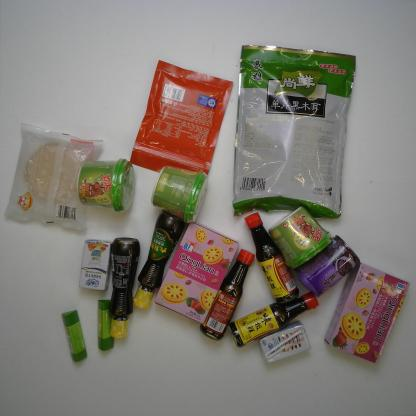Canned Food: (296, 238, 362, 297)
Dessert: (3, 123, 103, 231), (324, 260, 413, 364), (155, 223, 240, 322)
Dried Food: (231, 42, 358, 220)
Dried Fruit: (127, 58, 232, 187)
Instant Drink: (268, 206, 332, 272), (148, 164, 208, 226), (79, 158, 136, 213)
Milk: (260, 323, 312, 362), (77, 242, 111, 290)
Seasoner: (244, 207, 301, 304), (131, 208, 183, 311), (199, 250, 254, 341), (231, 292, 317, 347), (107, 238, 141, 340)
Stationery: (63, 309, 89, 362), (97, 297, 114, 351)
